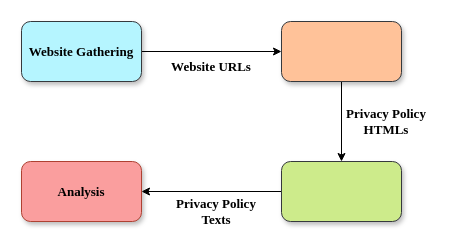
The diagram is 459 pixels wide and 246 high, and some of its shapes have lost their labels. The shapes that lost their labels are listed below. From the top down, each one's centre as x and y in pixels, then its label:
At [342,52]: "Web Scraper".
At [342,192]: "Policy Database".
